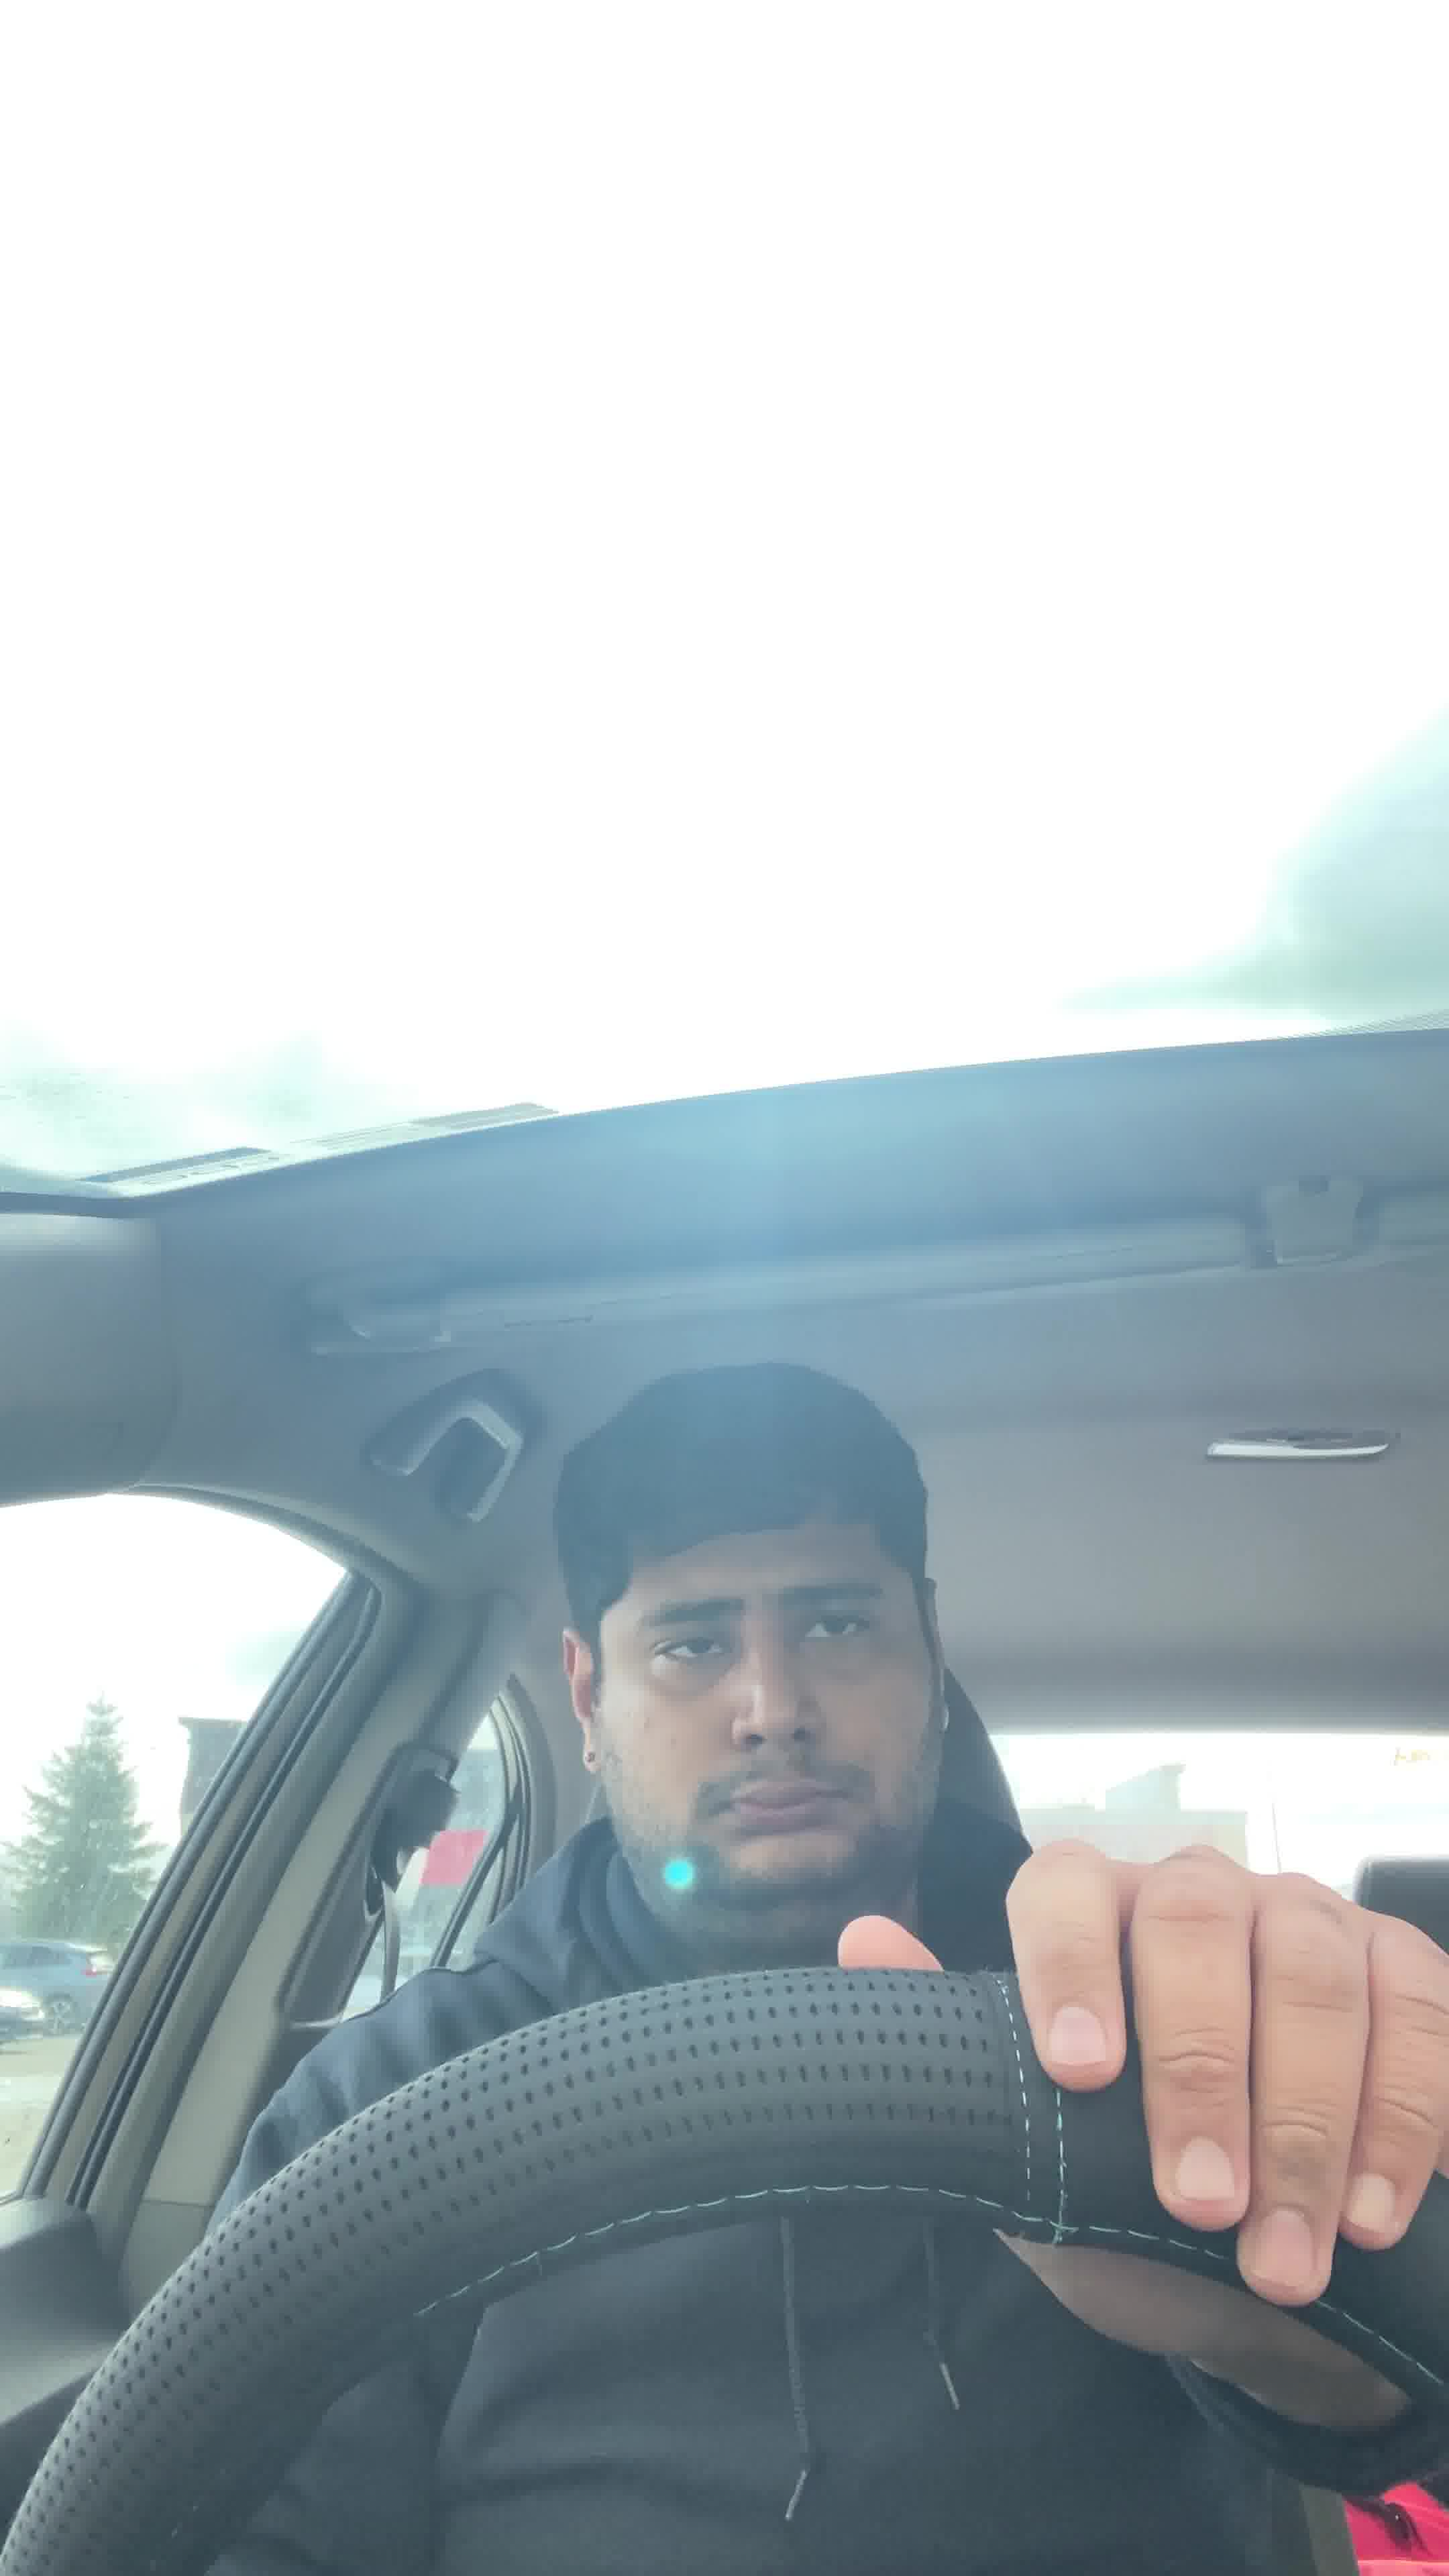no_seatbelt: (328, 1724, 865, 2554)
